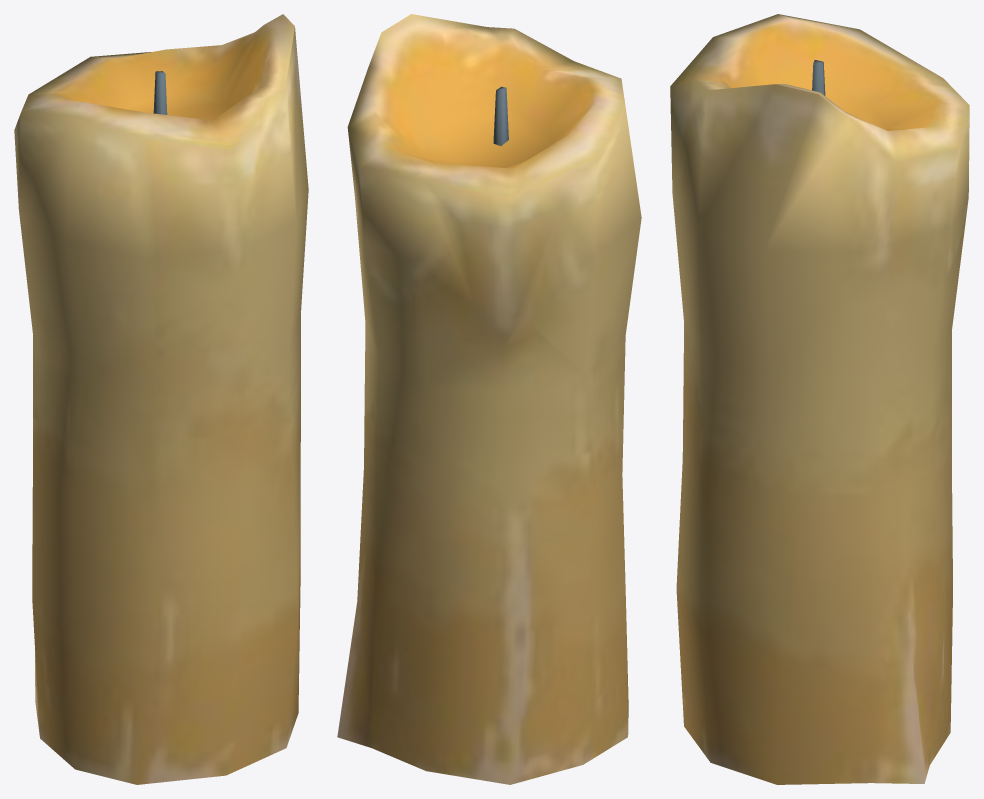
The model's file is candle_2.gltf.
3 views of the same model, side by side, from view 1: azimuth 30°, elevation 25°; view 2: azimuth 150°, elevation 25°; view 3: azimuth 270°, elevation 25° (orthographic). The views are drawn at different scales.
Visible parts, largest first — view 1: Candle_2; view 2: Candle_2; view 3: Candle_2.
Part boxes in pixels (left/top/right/bottom): Candle_2: left=14, top=14, right=308, bottom=784; Candle_2: left=337, top=14, right=641, bottom=784; Candle_2: left=670, top=14, right=969, bottom=784.
Bounding box in the file's own units: 0.0944 × 0.2511 × 0.0975.
1 material, 1 textured.
